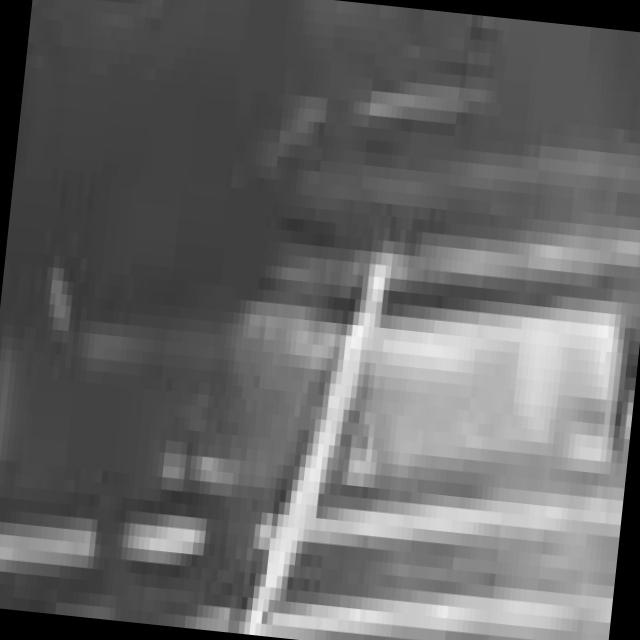stick: (222, 214, 417, 640)
